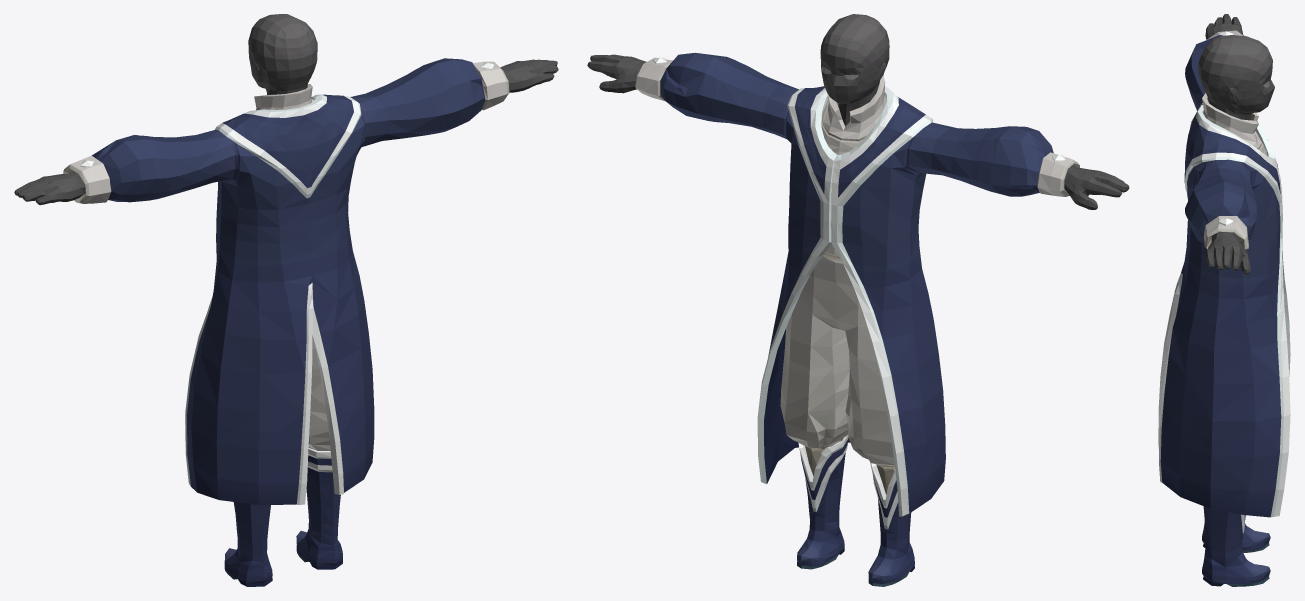
The model's file is NPC_AP26Royal.glb.
3 views of the same model, side by side, from view 1: azimuth 30°, elevation 25°; view 2: azimuth 150°, elevation 25°; view 3: azimuth 270°, elevation 25° (orthographic). The views are drawn at different scales.
Parts seen in each view (by area): view 1: NPC_AP26Royal; view 2: NPC_AP26Royal; view 3: NPC_AP26Royal.
Boxes of the visible parts, x1,y1,x2,y2 form: NPC_AP26Royal: (14, 14, 558, 586); NPC_AP26Royal: (587, 14, 1129, 586); NPC_AP26Royal: (1158, 14, 1290, 586).
Size of the model in its own units: 14.03 by 13.66 by 3.11.
Materials: 1 (1 with a texture image).
